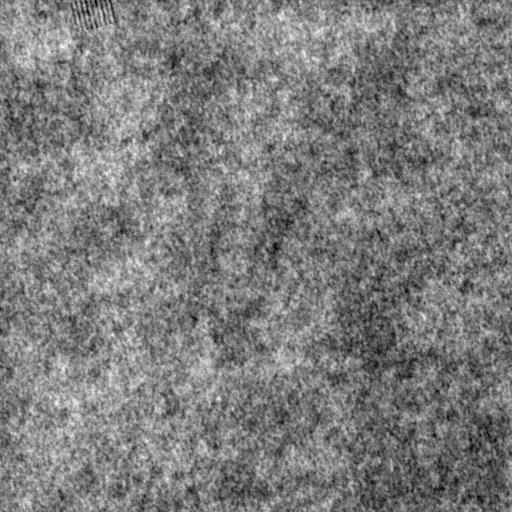DefectTypeB: (71, 2, 119, 32)
